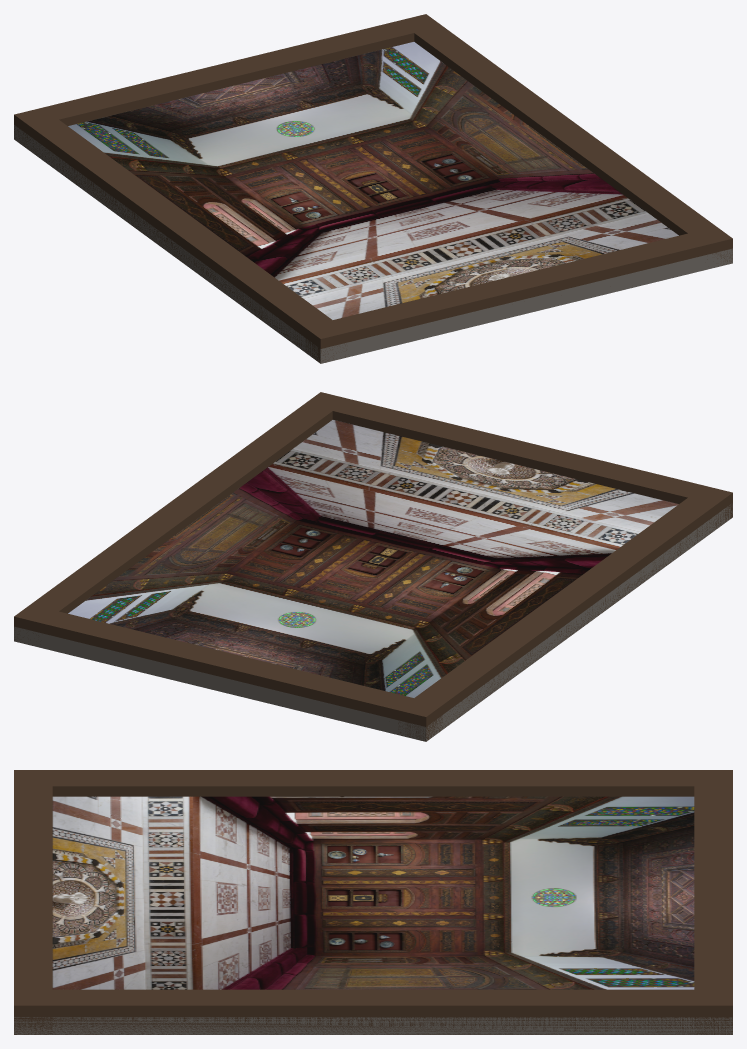
File: framed_artwork.glb
3 renders of one model, top to bottom at view 1: azimuth 30°, elevation 25°; view 2: azimuth 150°, elevation 25°; view 3: azimuth 270°, elevation 25°, orthographic. The views are drawn at different scales.
Parts seen in each view (by area): view 1: Artwork_Image_Front, Frame_Left, Frame_Right, Back_Board, Frame_Bottom, Frame_Top; view 2: Artwork_Image_Front, Frame_Left, Back_Board, Frame_Right, Frame_Bottom, Frame_Top; view 3: Artwork_Image_Front, Frame_Right, Frame_Left, Back_Board, Frame_Bottom, Frame_Top.
Part boxes in pixels (x1=…): Artwork_Image_Front: x1=68, y1=42, x2=678, y2=319; Frame_Left: x1=14, y1=107, x2=349, y2=363; Frame_Right: x1=398, y1=14, x2=732, y2=264; Back_Board: x1=14, y1=125, x2=732, y2=363; Frame_Bottom: x1=304, y1=226, x2=732, y2=363; Frame_Top: x1=14, y1=14, x2=441, y2=142; Artwork_Image_Front: x1=68, y1=420, x2=678, y2=697; Frame_Left: x1=397, y1=486, x2=732, y2=741; Back_Board: x1=14, y1=504, x2=732, y2=741; Frame_Right: x1=14, y1=394, x2=347, y2=639; Frame_Bottom: x1=305, y1=392, x2=732, y2=521; Frame_Top: x1=19, y1=604, x2=442, y2=741; Artwork_Image_Front: x1=52, y1=796, x2=694, y2=989; Frame_Right: x1=14, y1=989, x2=732, y2=1034; Frame_Left: x1=14, y1=770, x2=732, y2=796; Back_Board: x1=14, y1=1017, x2=732, y2=1034; Frame_Bottom: x1=14, y1=770, x2=52, y2=1034; Frame_Top: x1=694, y1=770, x2=732, y2=1034.
Size of the model in its own units: 1.74 by 0.1 by 2.24.
Materials: 3 (1 with a texture image).
